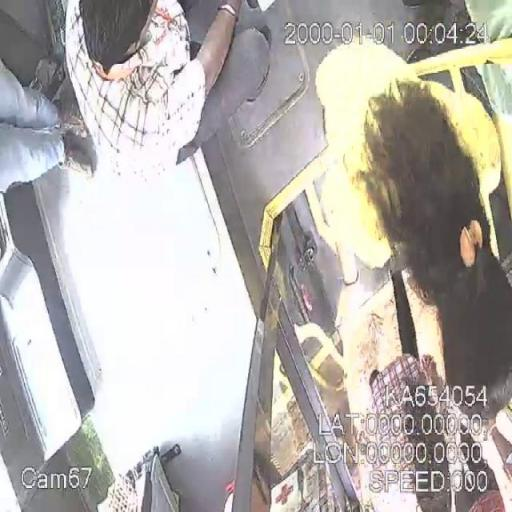persona: (314, 38, 507, 306), (62, 0, 244, 182), (358, 341, 497, 512)
